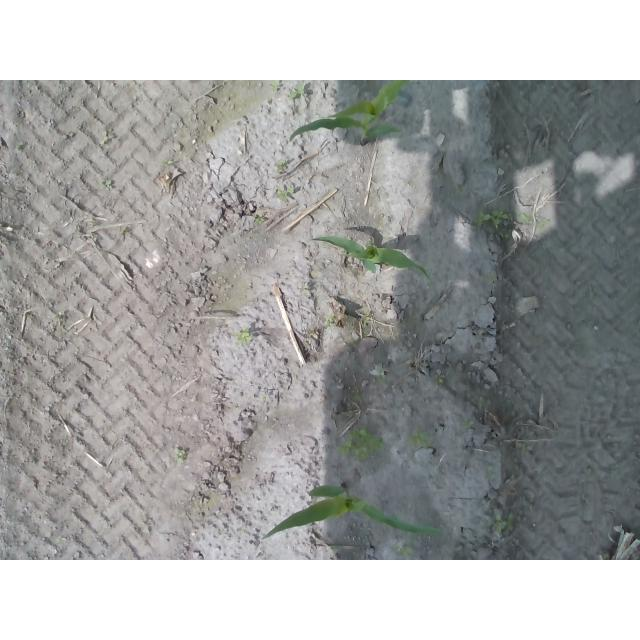Maize: (260, 481, 442, 541), (286, 80, 410, 146), (309, 236, 432, 282)
Weeds: (339, 425, 386, 463), (475, 209, 550, 231), (493, 513, 512, 536), (407, 431, 431, 449), (397, 545, 416, 560), (274, 185, 294, 199), (173, 448, 187, 465), (290, 85, 307, 99), (236, 330, 253, 342), (476, 396, 491, 409), (161, 158, 176, 170), (434, 369, 446, 384), (276, 159, 288, 173), (100, 131, 109, 145), (105, 180, 114, 193), (255, 216, 267, 225), (463, 417, 473, 427), (326, 317, 334, 326)
